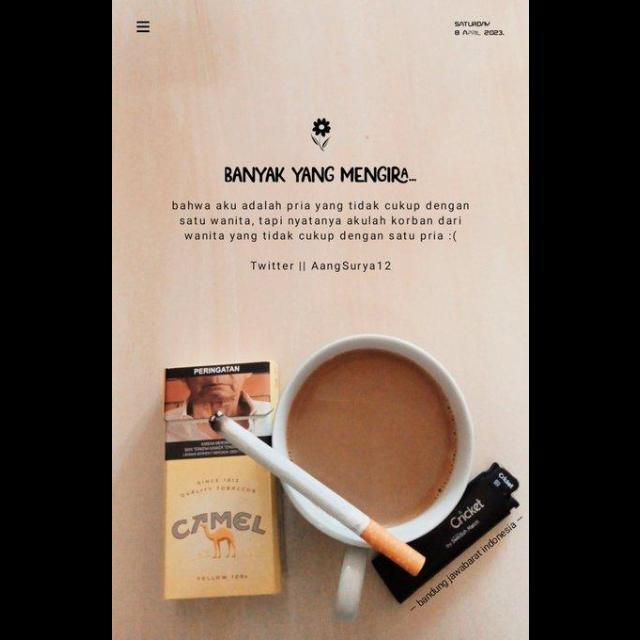rokok: (208, 404, 430, 578)
